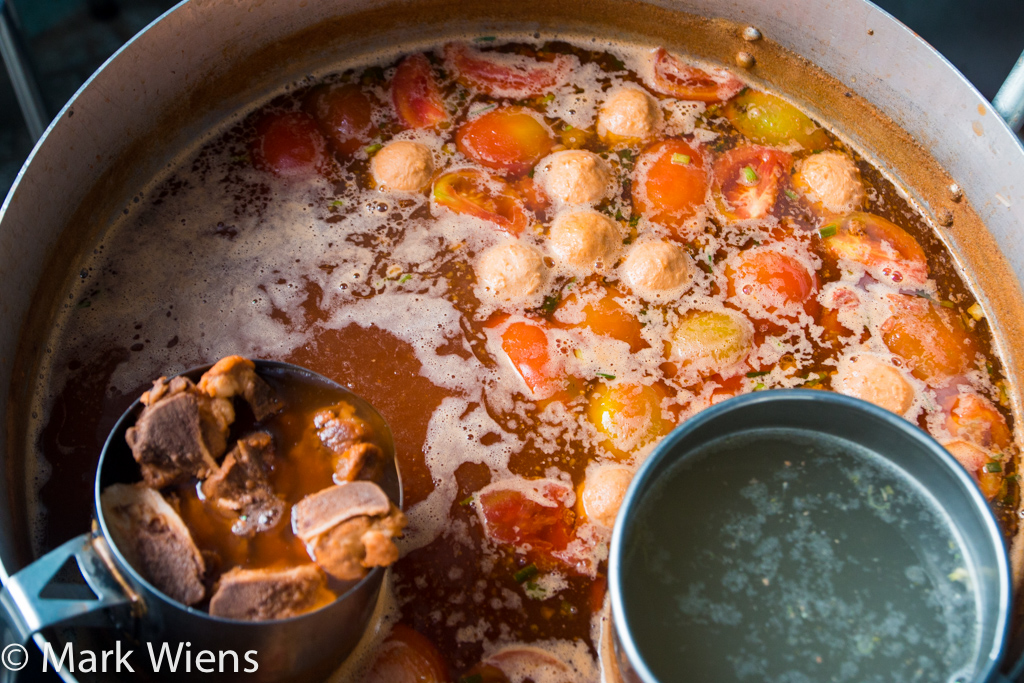chamoc: (545, 203, 625, 279), (471, 241, 552, 310), (615, 234, 698, 298), (536, 150, 617, 212), (794, 143, 866, 210), (362, 133, 428, 195)
pork: (138, 381, 291, 540), (281, 443, 396, 579)
tomato: (440, 35, 582, 98), (629, 133, 719, 220), (459, 99, 562, 169), (711, 139, 788, 232), (642, 44, 742, 108)
